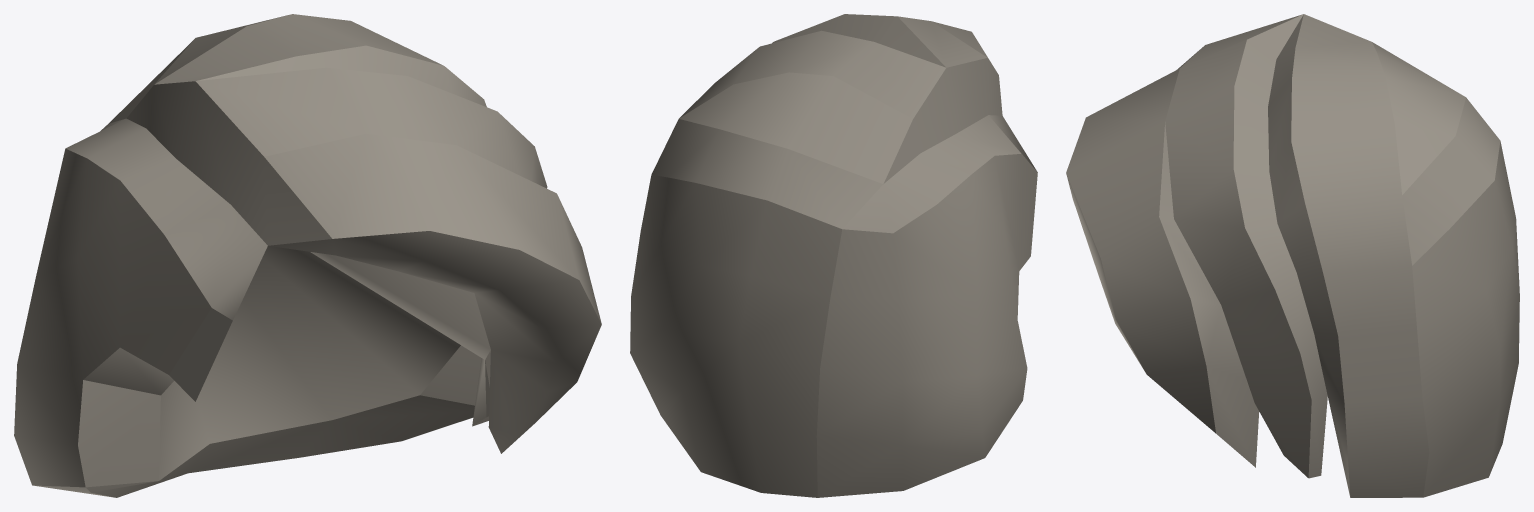
File: Female_Hairs_06_v4.fbx
The picture shows the model from 3 angles, left to right: view 1: azimuth 30°, elevation 25°; view 2: azimuth 150°, elevation 25°; view 3: azimuth 270°, elevation 25°; orthographic projection. The views are drawn at different scales.
Visible parts, largest first — view 1: Female_Hairs_06_v4; view 2: Female_Hairs_06_v4; view 3: Female_Hairs_06_v4.
Part boxes in pixels (bbox=[...]): Female_Hairs_06_v4: bbox=[14, 14, 601, 497]; Female_Hairs_06_v4: bbox=[630, 14, 1037, 497]; Female_Hairs_06_v4: bbox=[1066, 14, 1519, 497].
Size of the model in its own units: 65.75 by 68.56 by 69.7.
